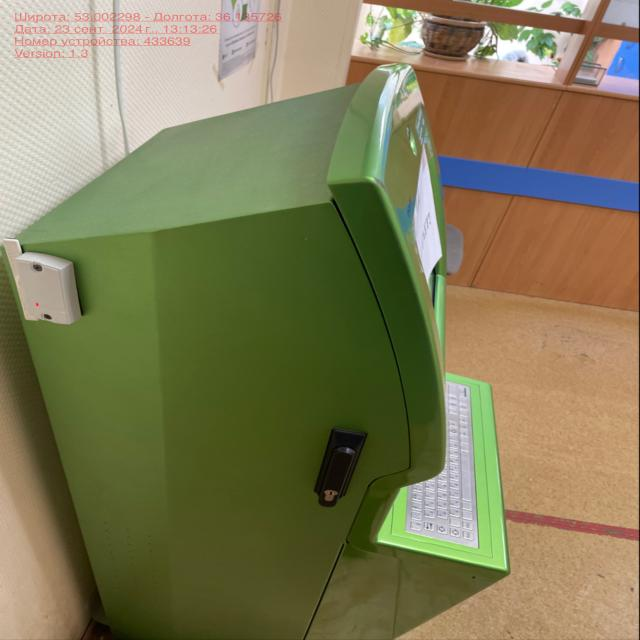bank: (21, 74, 497, 640)
